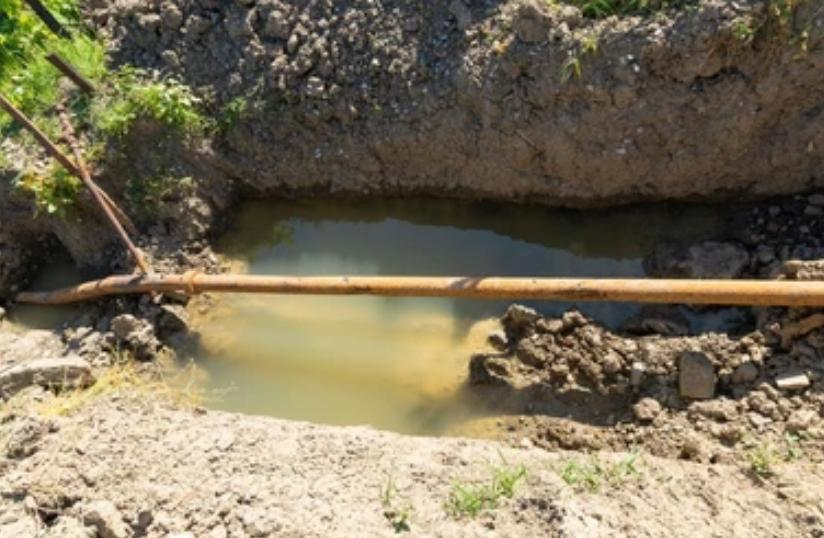water accumulation: (151, 194, 762, 441)
